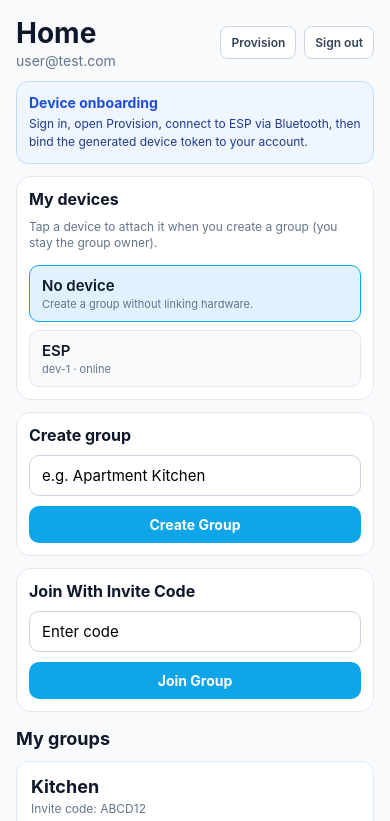
Test: DashboardScreen › surfaces API errors for create and join actions
Expected: the text "Kitchen" is shown, left=31, top=776, right=99, bottom=797
Type "Garage" into the field with placeholder "e.g. Apartment Kitchen". click: (195, 476)
box: left=29, top=455, right=361, bottom=496
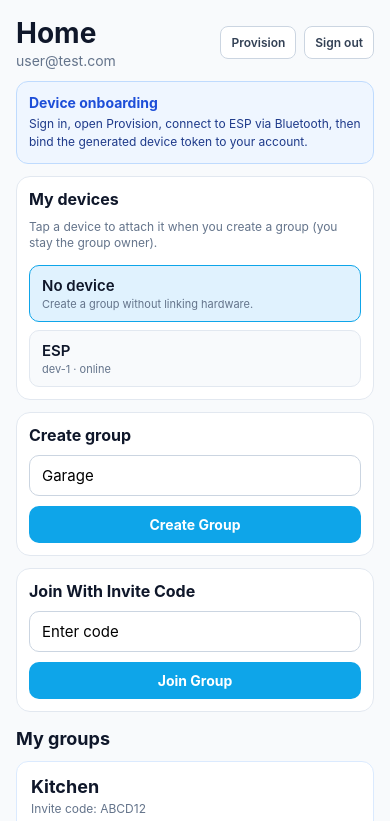
Click the text "Create Group". click: (195, 524)
box: left=150, top=516, right=240, bottom=533
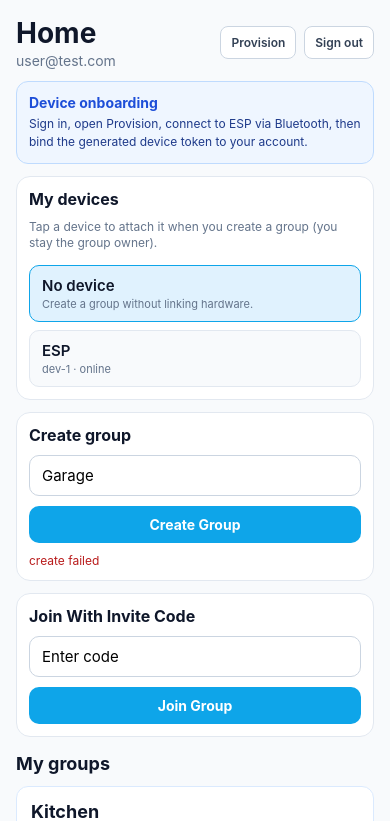
Expected: the text "create failed" is shown, left=29, top=553, right=99, bottom=568
Type "NEWCODE" into the field with placeholder "Enter code". click: (195, 656)
box: left=29, top=636, right=361, bottom=677
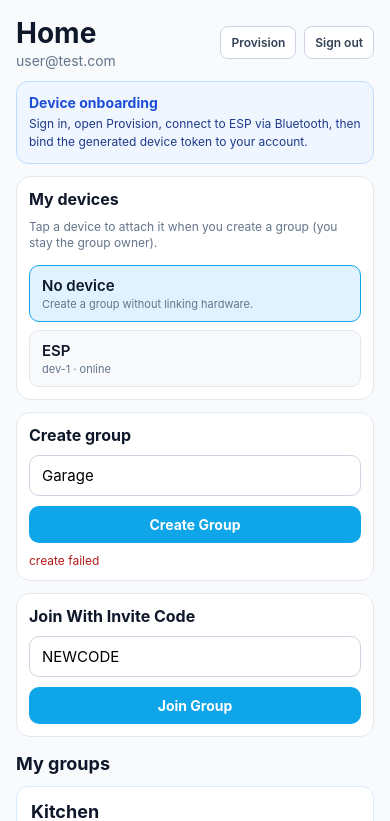
Click the text "Join Group". click: (195, 706)
box: left=158, top=697, right=232, bottom=714
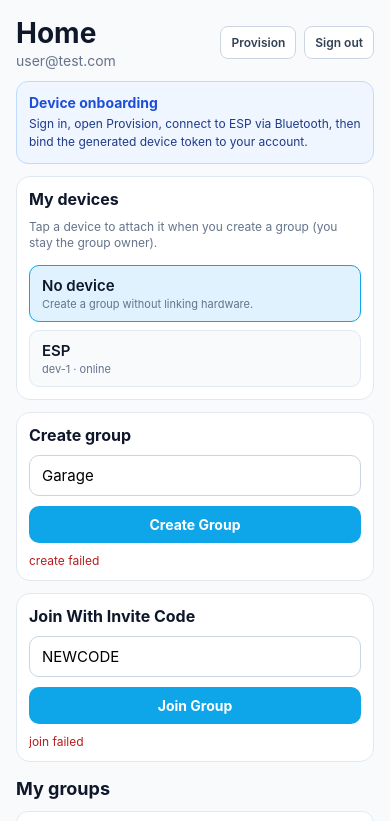
Expected: the text "join failed" is shown, left=29, top=734, right=84, bottom=749
